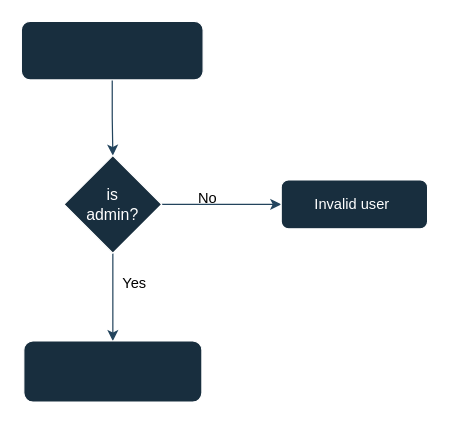
This 449x423 diagram has some shape labels left out. The centre of each missing label's shape, as x and y in pixels:
"Course Deleted" belongs at (x=112, y=371).
"Delete Course" belongs at (x=111, y=50).
